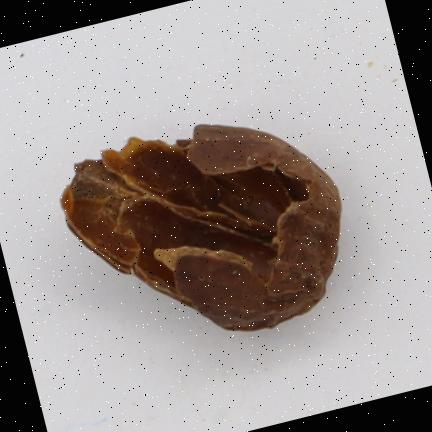full-black: (61, 124, 340, 329)
